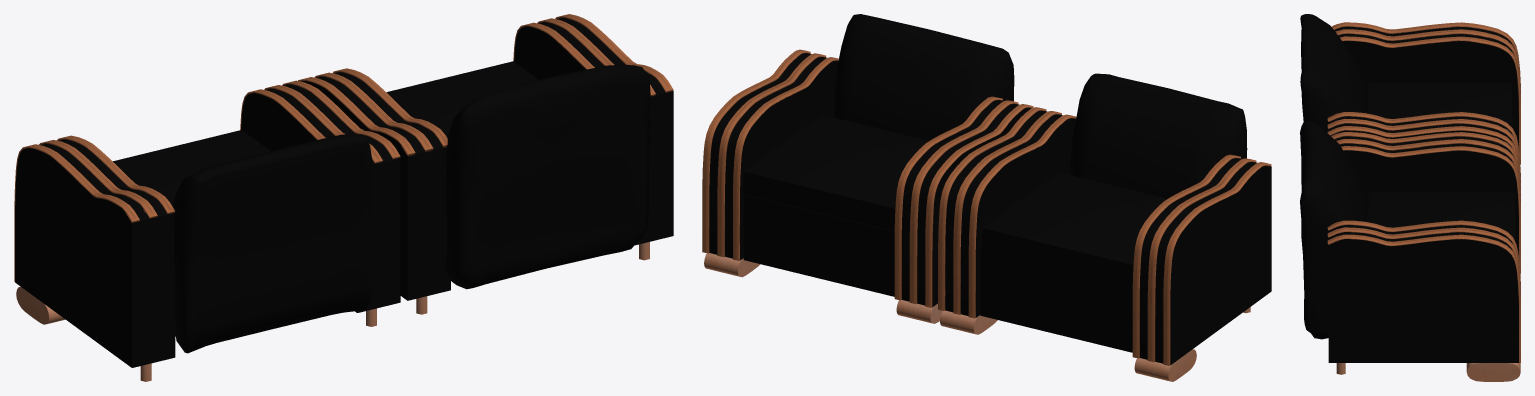
The model's file is lodge_sofa.obj.
3 renders of one model, left to right at view 1: azimuth 30°, elevation 25°; view 2: azimuth 150°, elevation 25°; view 3: azimuth 270°, elevation 25°, orthographic. The views are drawn at different scales.
Bounding box in the file's own units: 22.61 × 8.79 × 9.8.
1 material, 1 textured.
